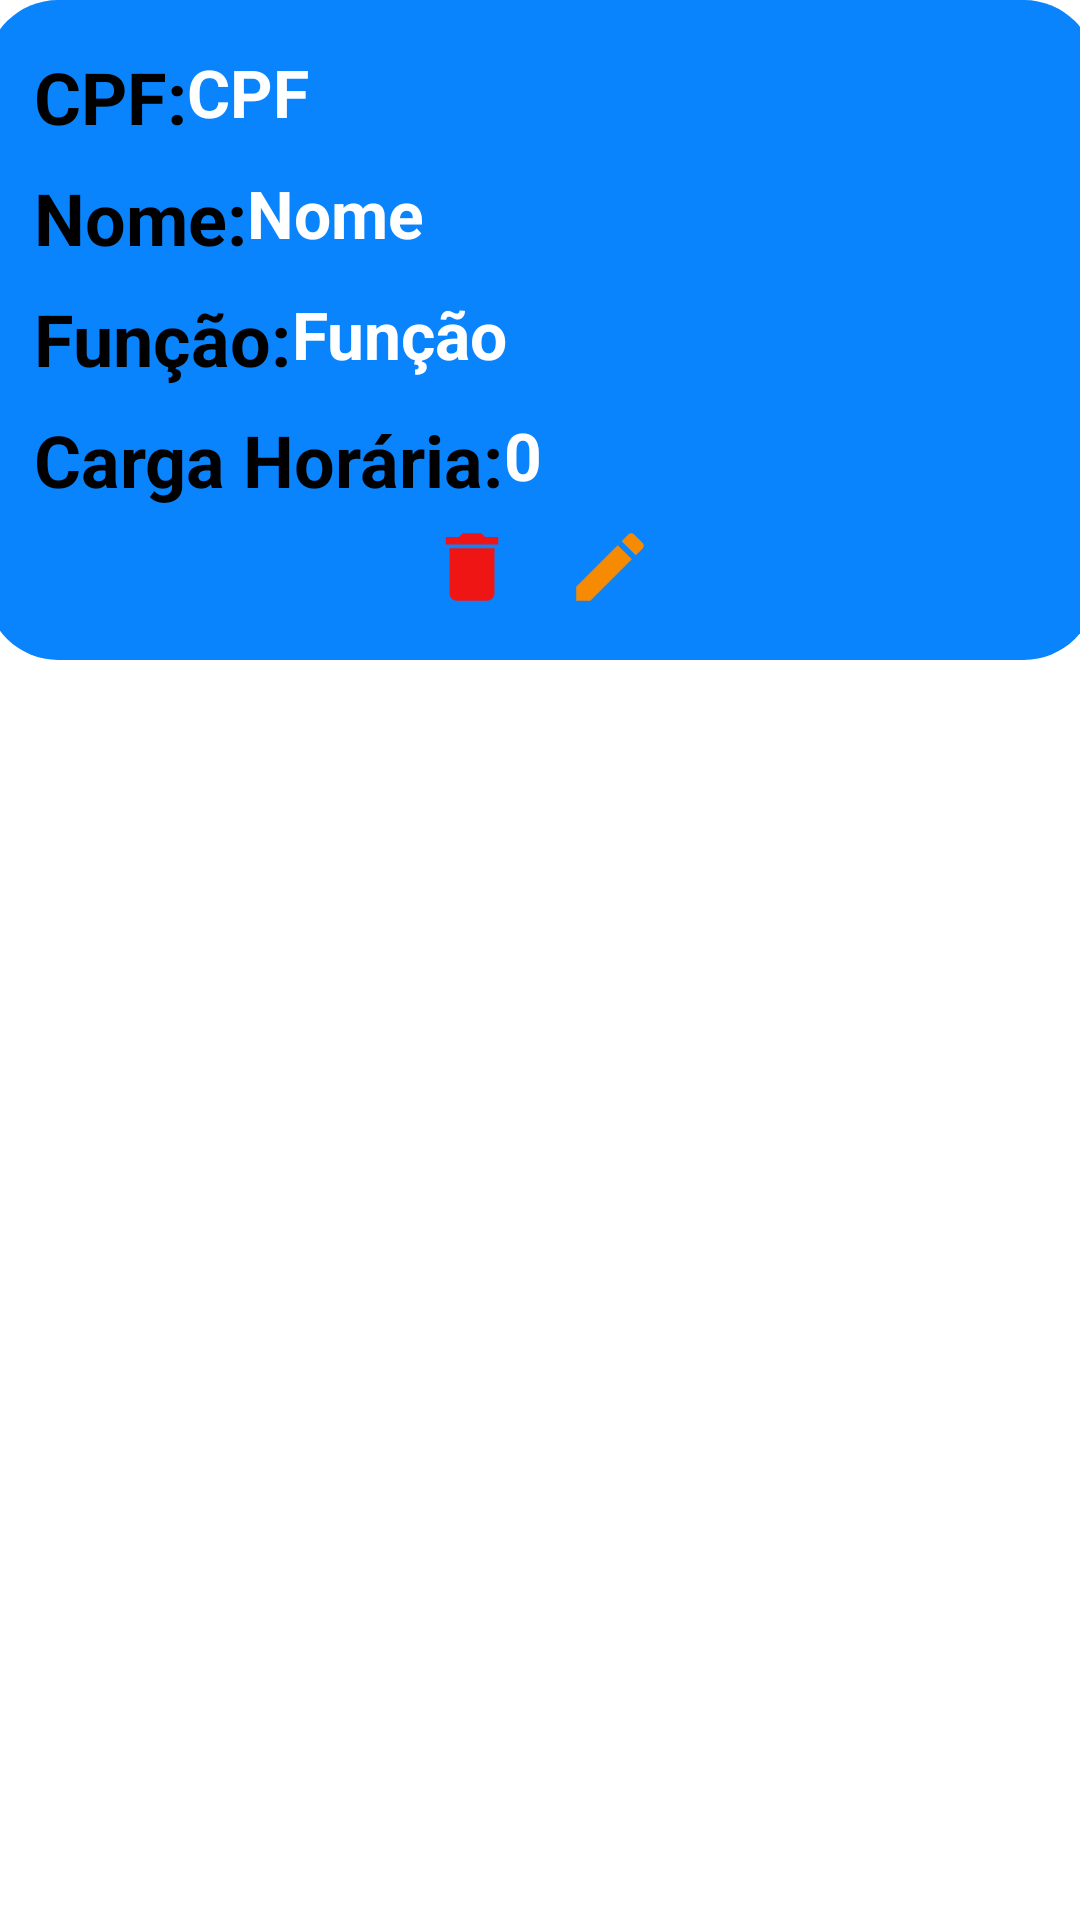

Icons on this 1080*1920 Android screen, each with its box as (left=x1, top=y1, right=x2, bottom=y2):
delete: (left=445, top=533, right=499, bottom=601)
edit: (left=576, top=533, right=644, bottom=601)
